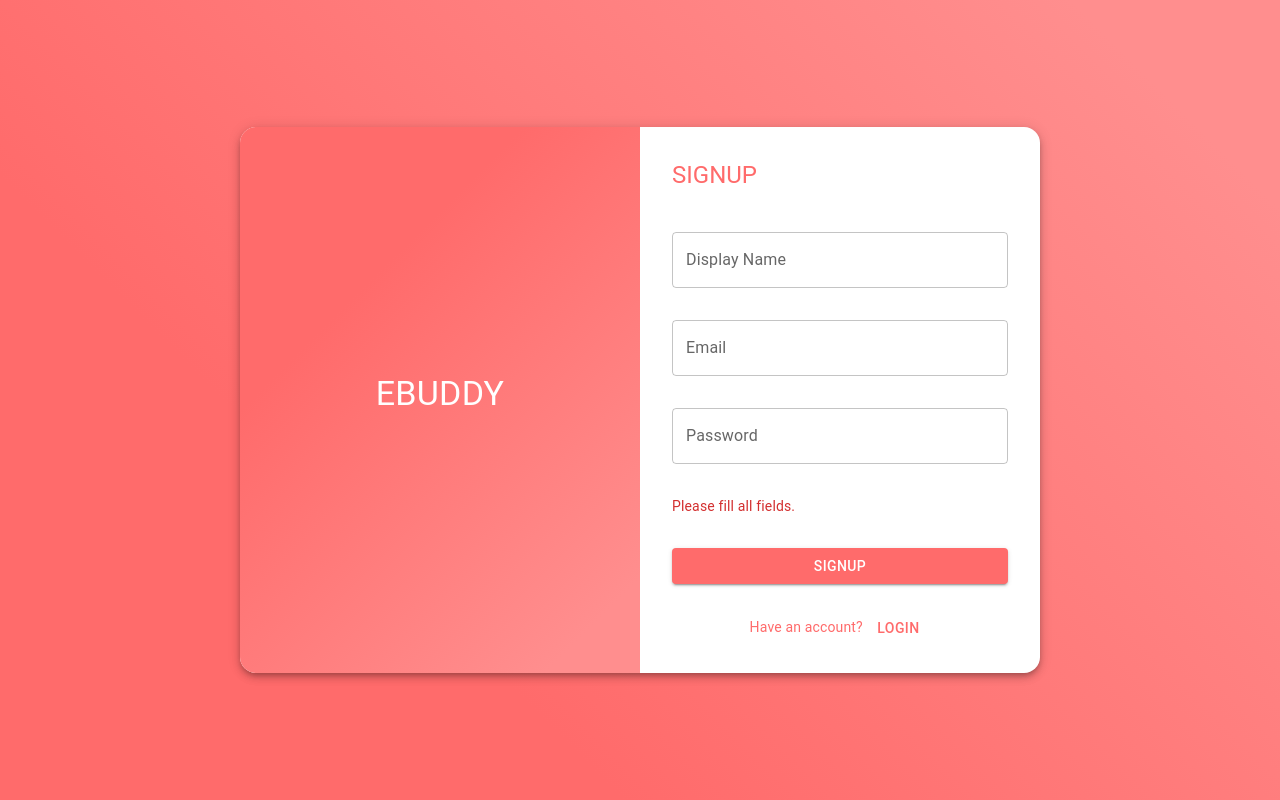
Test case: SignupPage Component › shows an error for invalid email format
Type "Test User" into the field labelled "Display Name" at point(840, 260), box [672, 232, 1008, 288]
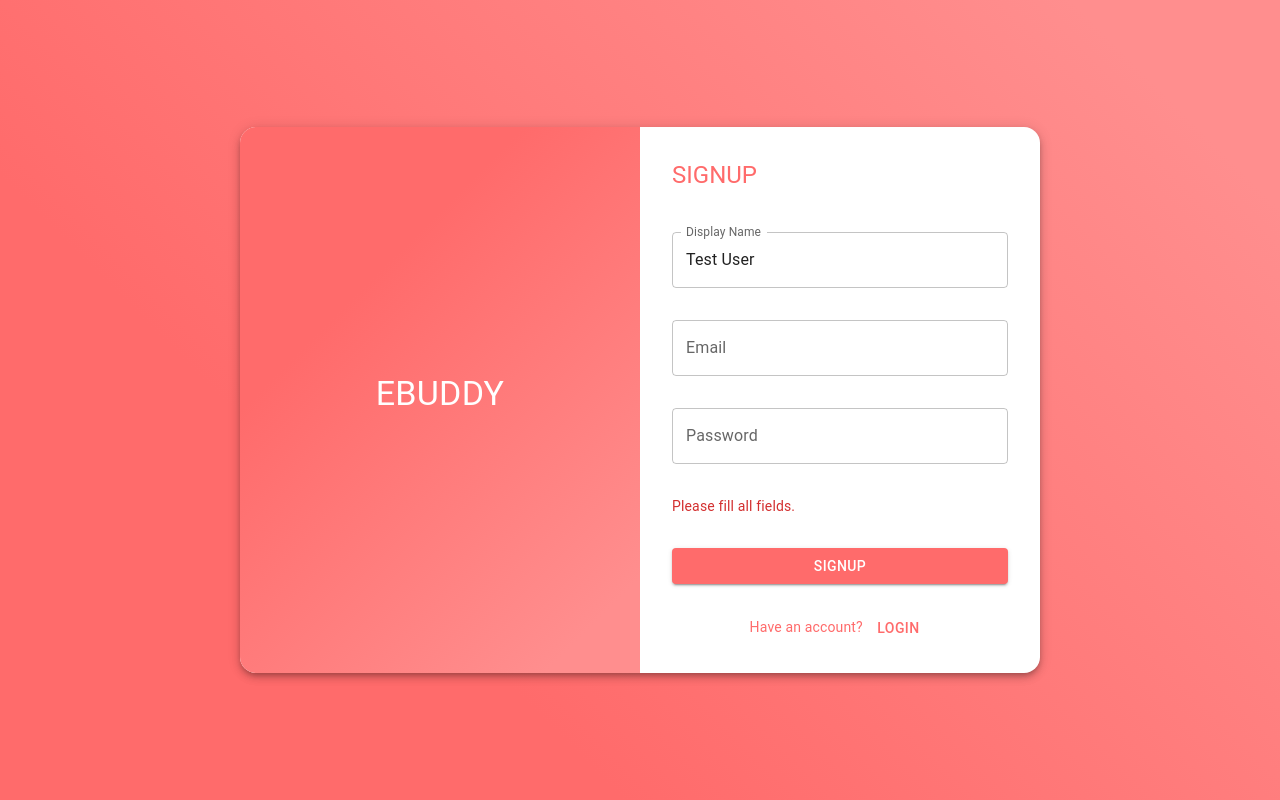
Type "invalid-email" into the field labelled "Email" at point(840, 348), box [672, 320, 1008, 376]
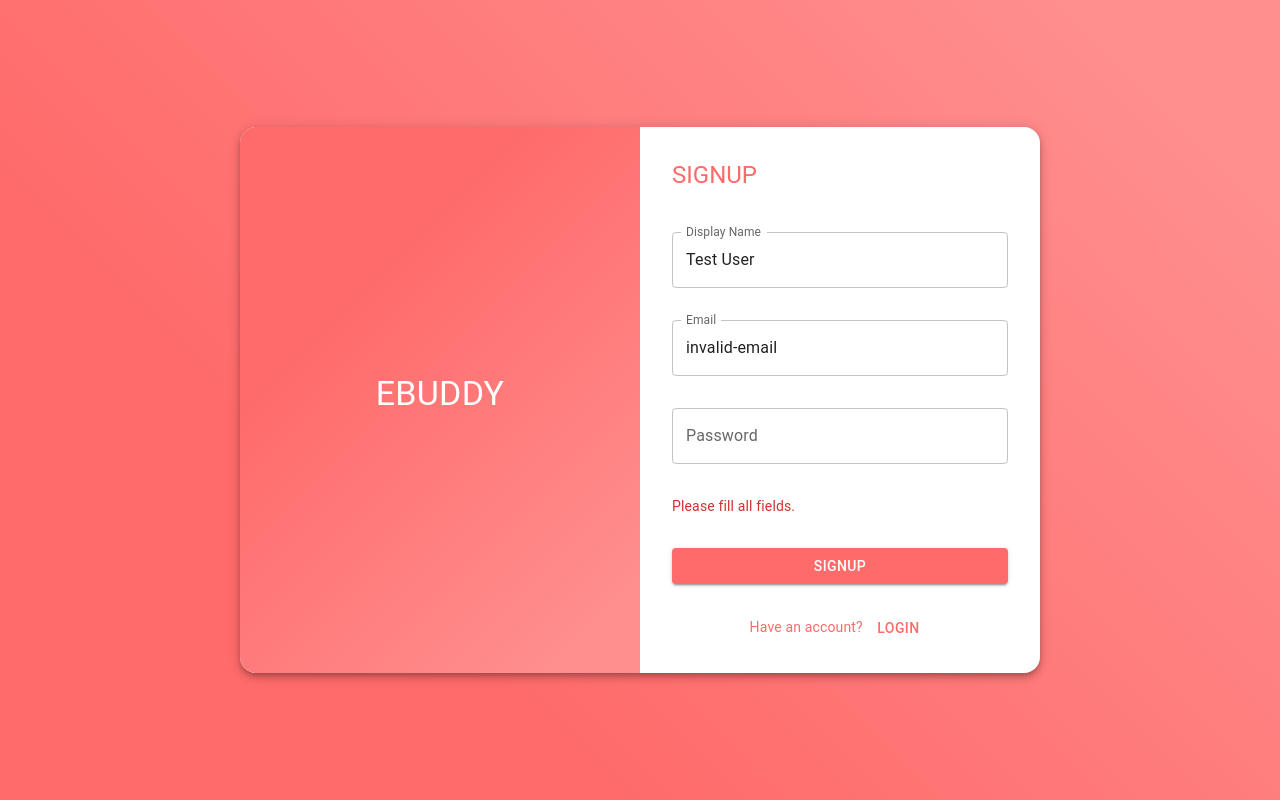
Type "password123" into the password field labelled "Password" at point(840, 436), box [672, 408, 1008, 464]
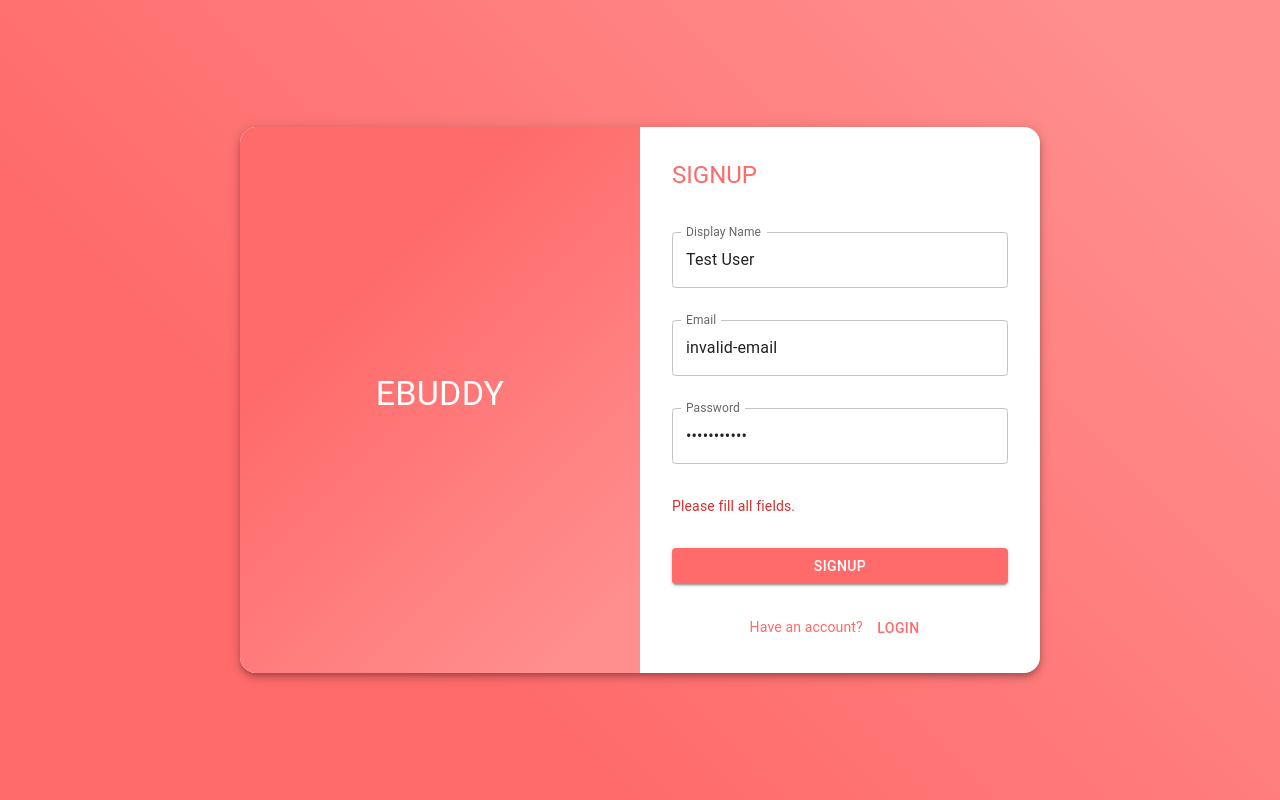
Click the button "SIGNUP" at point(840, 566), box [672, 548, 1008, 584]
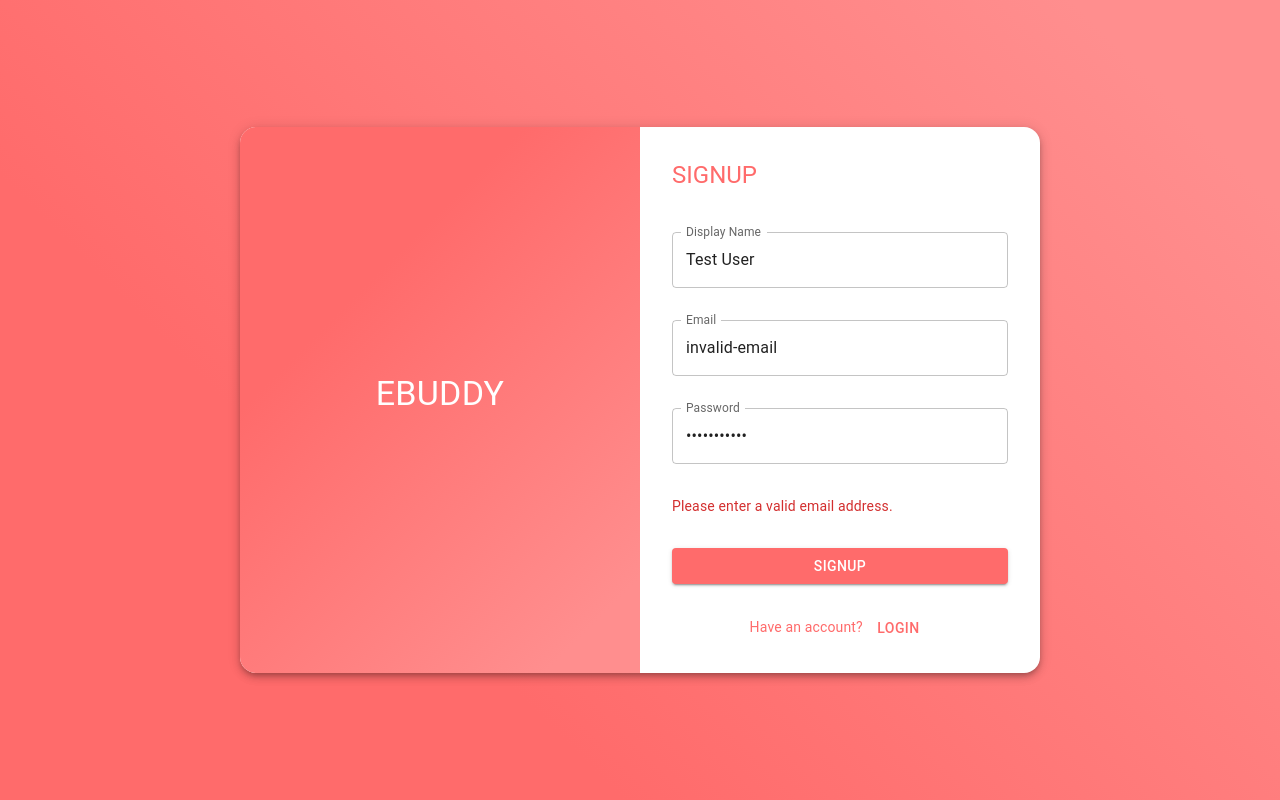
Expected: the text "Please enter a valid email address." is shown, [672, 498, 893, 514]
